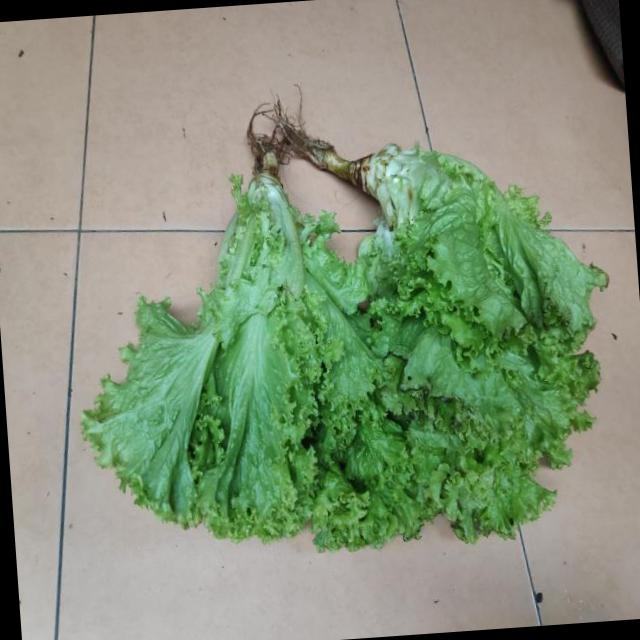Lettuce-Ready-to-Harvest: (82, 173, 436, 548), (357, 145, 607, 540)
